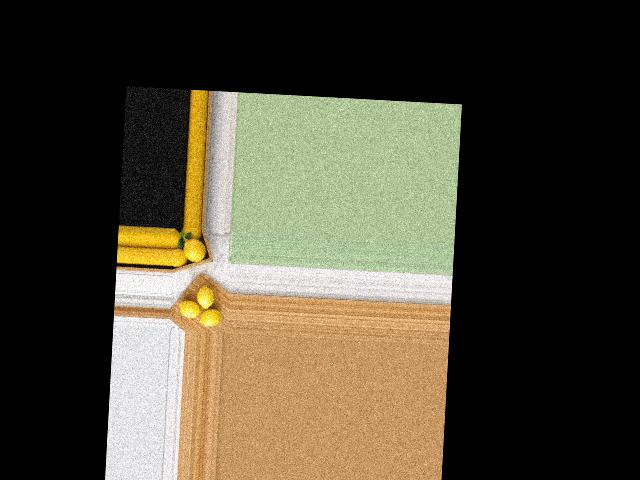lemon: (198, 303, 225, 329)
